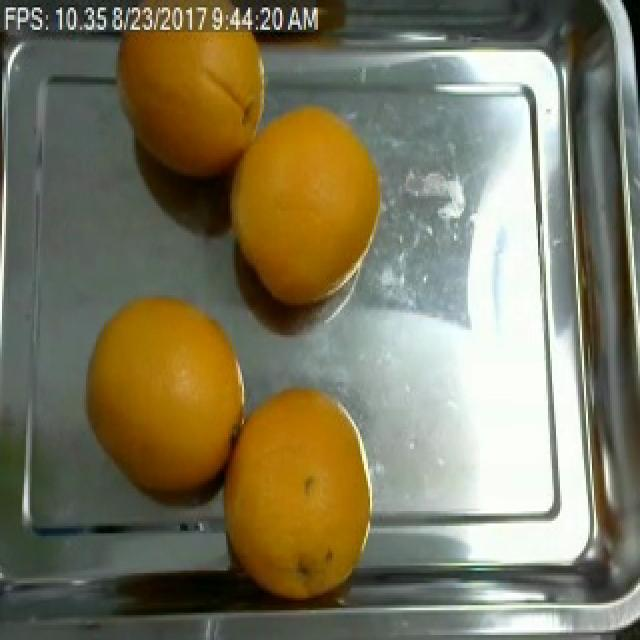Fruit: (102, 12, 282, 198)
